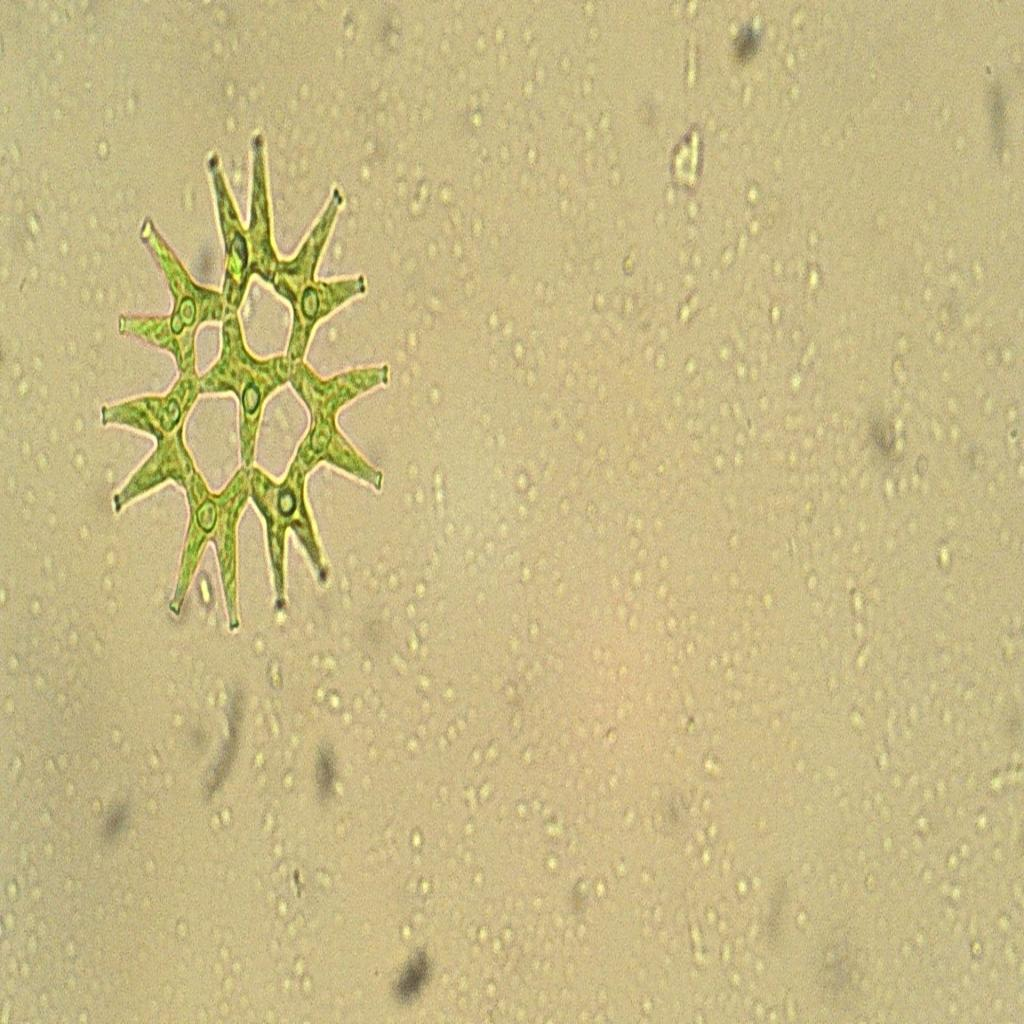Pediastrum_CTH: (82, 121, 410, 653)
